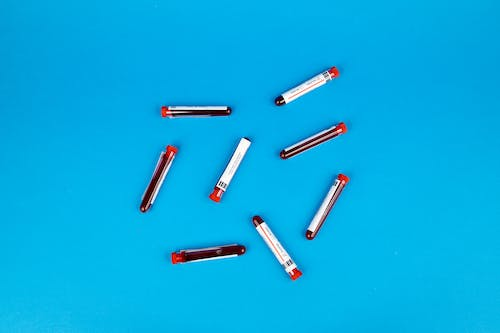blood: (304, 182, 344, 240), (214, 136, 252, 193), (279, 126, 339, 161), (138, 156, 169, 214), (184, 243, 246, 264), (172, 103, 232, 119), (273, 94, 287, 108), (252, 215, 264, 227)
